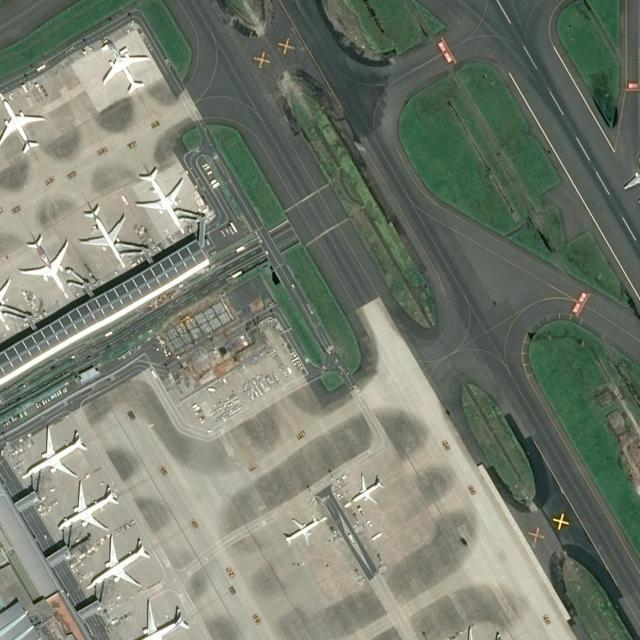Aircraft: (132, 167, 186, 231), (21, 426, 89, 476), (18, 236, 72, 296), (82, 539, 148, 587), (55, 481, 118, 531), (79, 204, 127, 265), (119, 598, 188, 640), (98, 43, 150, 94), (0, 98, 44, 154), (281, 516, 323, 546), (349, 476, 381, 506)
